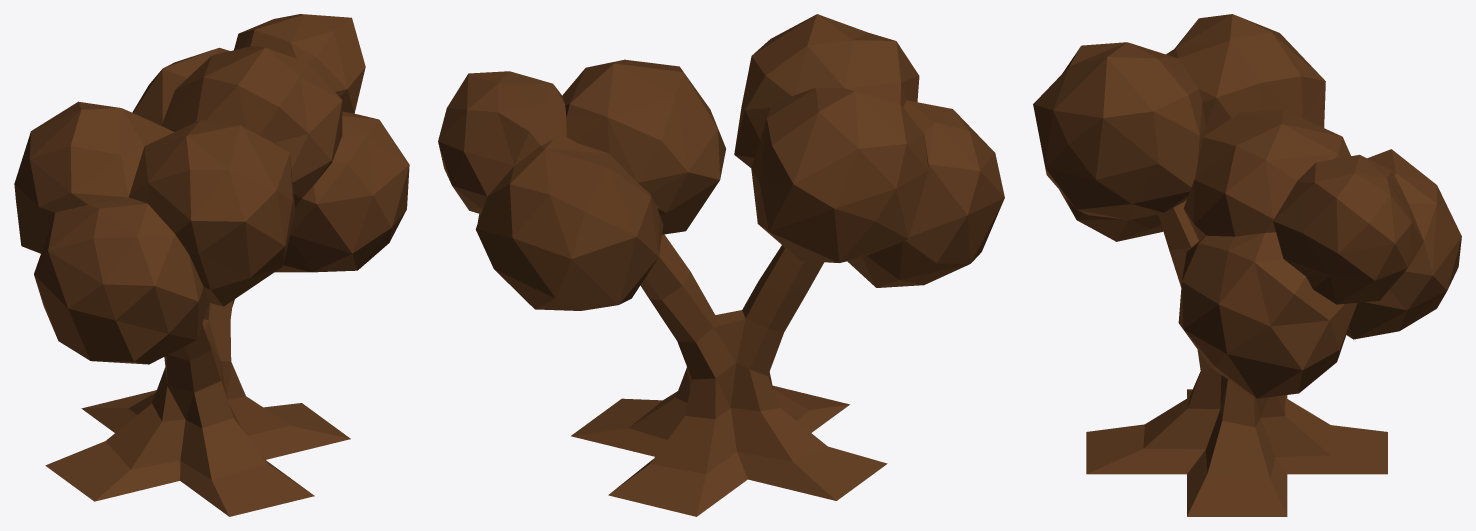
The model's file is ArbrePrairie_C.FBX.
3 renders of one model, left to right at view 1: azimuth 30°, elevation 25°; view 2: azimuth 150°, elevation 25°; view 3: azimuth 270°, elevation 25°, orthographic. The views are drawn at different scales.
Visible parts, largest first — view 1: ArbrePrairie_C; view 2: ArbrePrairie_C; view 3: ArbrePrairie_C.
Part boxes in pixels (x1,y1,x2,y2): ArbrePrairie_C: (14, 14, 409, 516); ArbrePrairie_C: (438, 14, 1004, 516); ArbrePrairie_C: (1033, 14, 1461, 516).
Bounding box in the file's own units: 4.83 × 4.23 × 4.26.
